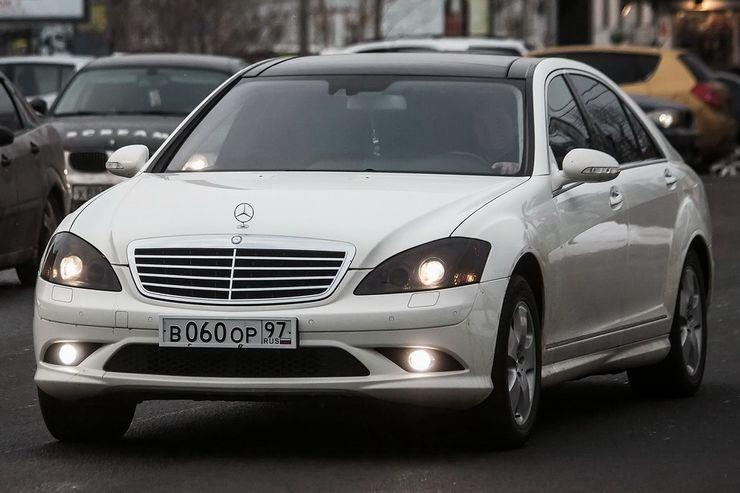license-plateSW: (163, 319, 297, 346)
